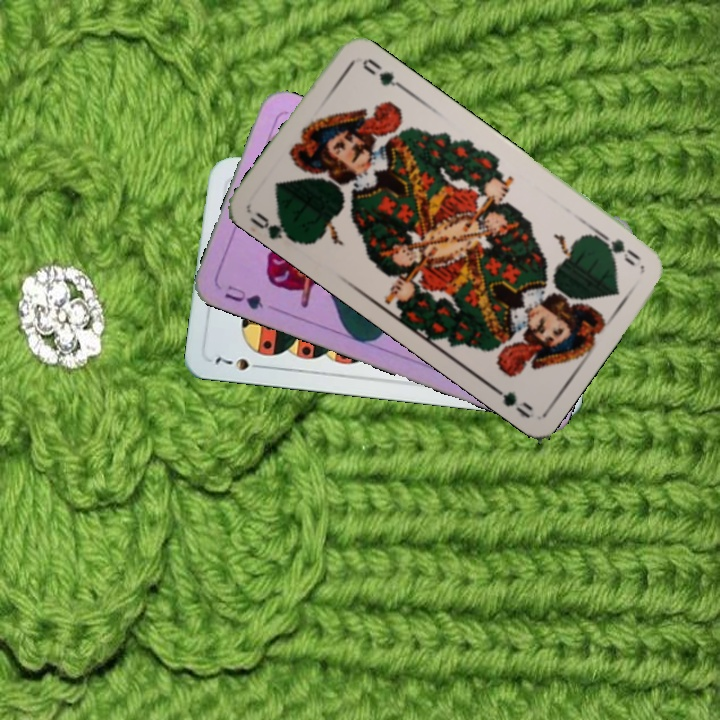GO: (589, 226, 644, 269), (245, 208, 301, 246)
GU: (221, 281, 266, 312)
S7: (211, 353, 268, 373)
